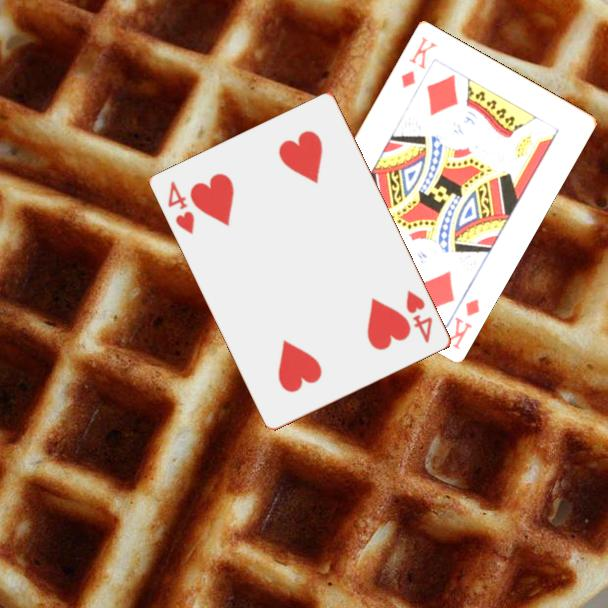d13: (397, 32, 440, 91), (439, 295, 483, 352)
h04: (403, 286, 436, 346), (165, 178, 198, 238)
